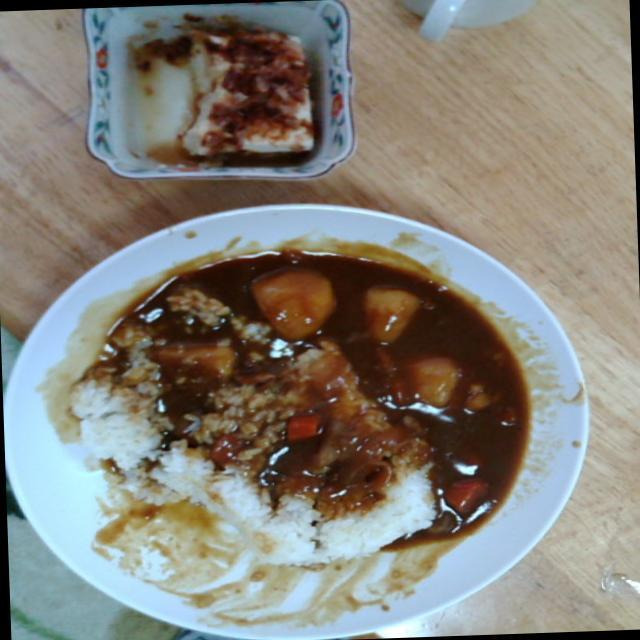Beef Curry: (137, 229, 538, 478)
